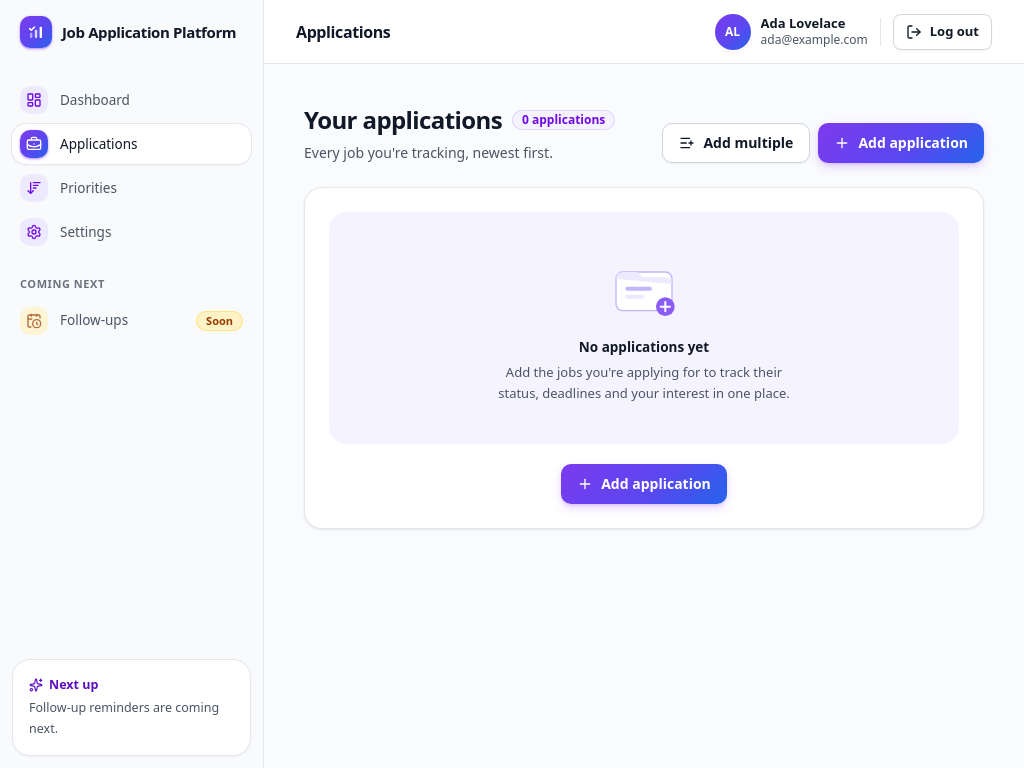
Test: Add application › required fields are validated on the client before any request
The image size is (1024, 768).
Expected: the text "No applications yet" is shown, [579,337,709,358]
Click the button "Add application" next to "Add multiple" at (901, 143), box [818,123,984,163]
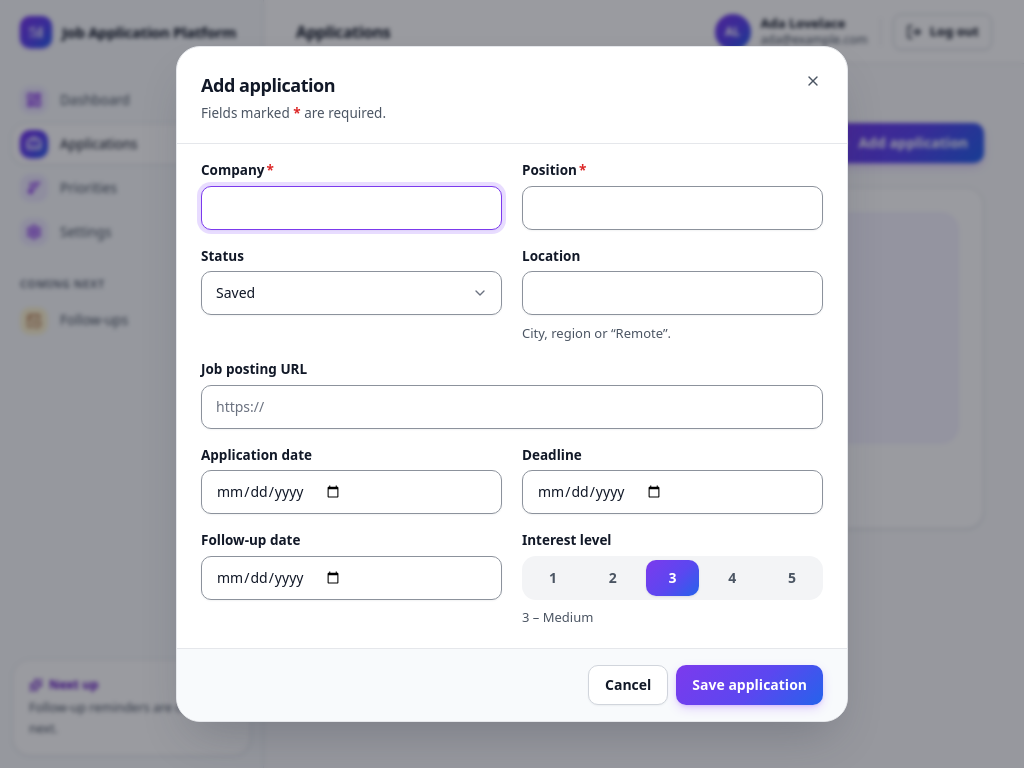
Click the button "Save application" at (750, 685), box [676,665,823,705]
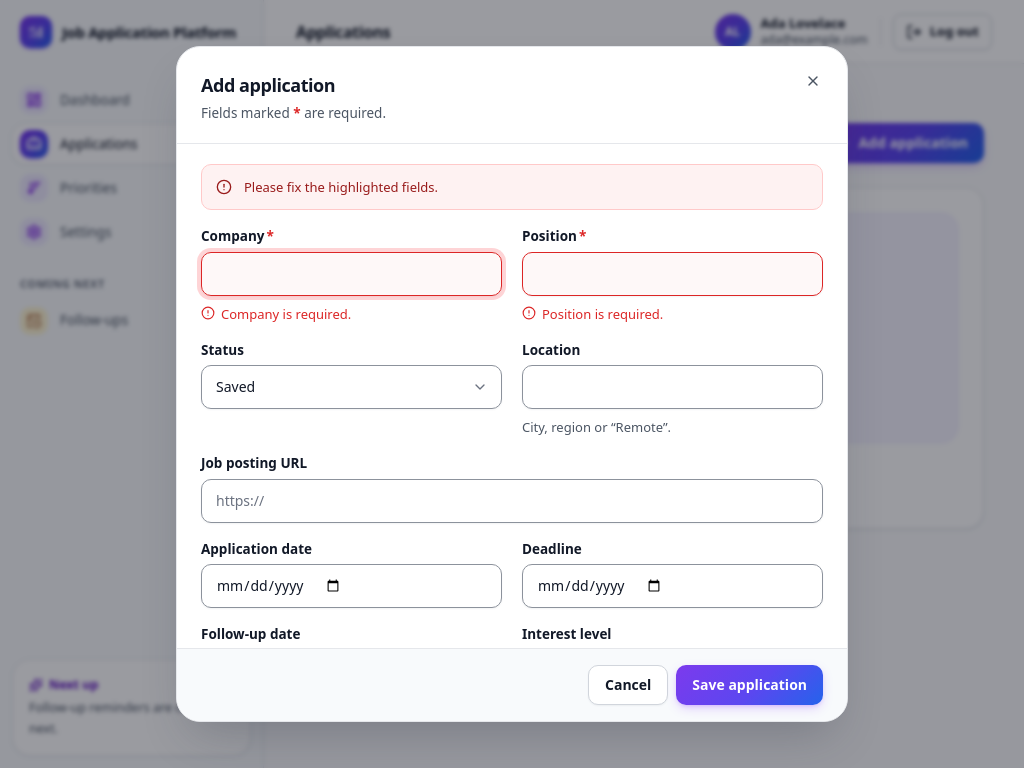
Expected: the text "Company is required." is shown, [221,304,351,324]
Expected: the text "Position is required." is shown, [542,304,663,324]
Expected: the message reads "Please fix the highlighted fields.", [244,178,438,196]
